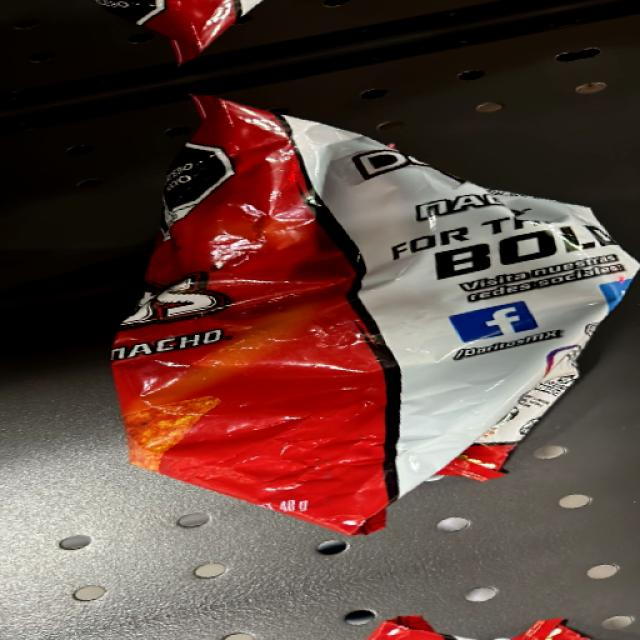doritosNacho: (143, 106, 442, 534)
